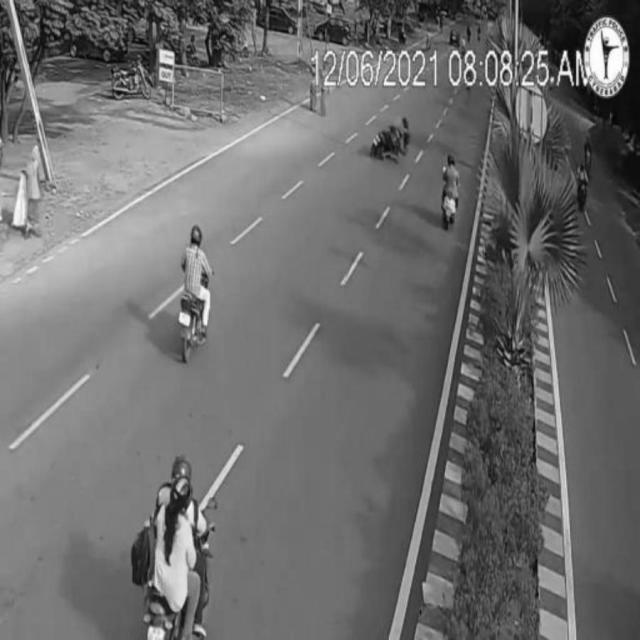accident: (369, 116, 415, 168)
person: (25, 143, 43, 237)
vehicle: (144, 456, 214, 633), (177, 229, 213, 361), (440, 150, 464, 233)
